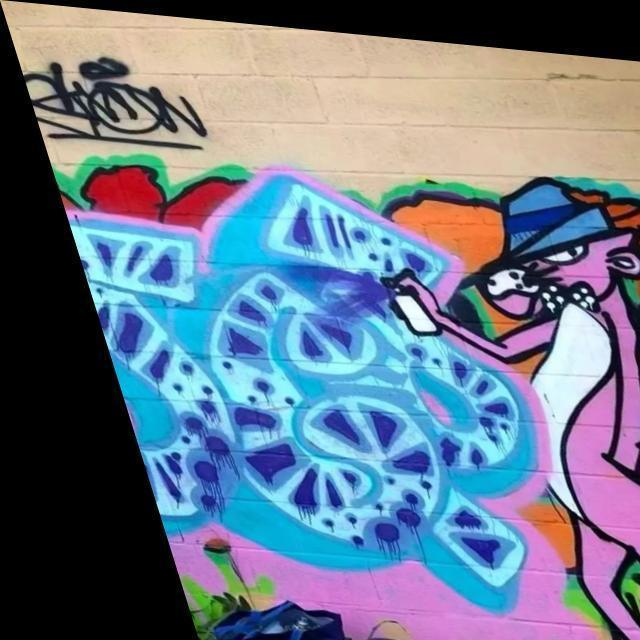nonspitting: (44, 153, 640, 640), (20, 57, 211, 151)
